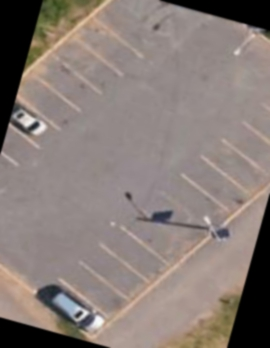parkingspot: (28, 86, 270, 342), (0, 10, 151, 191)
